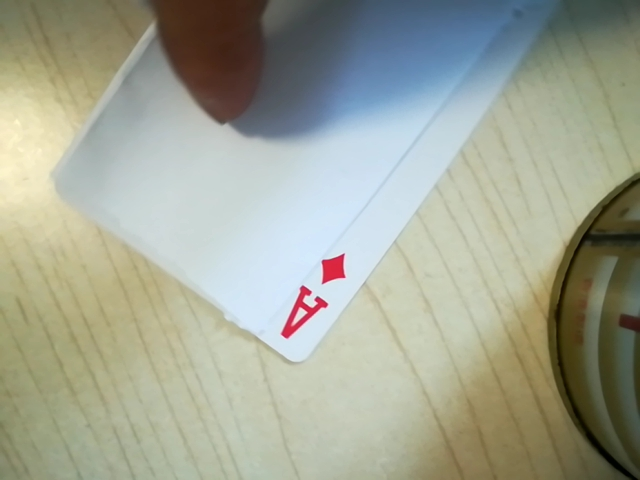fk a: (269, 248, 350, 343)
